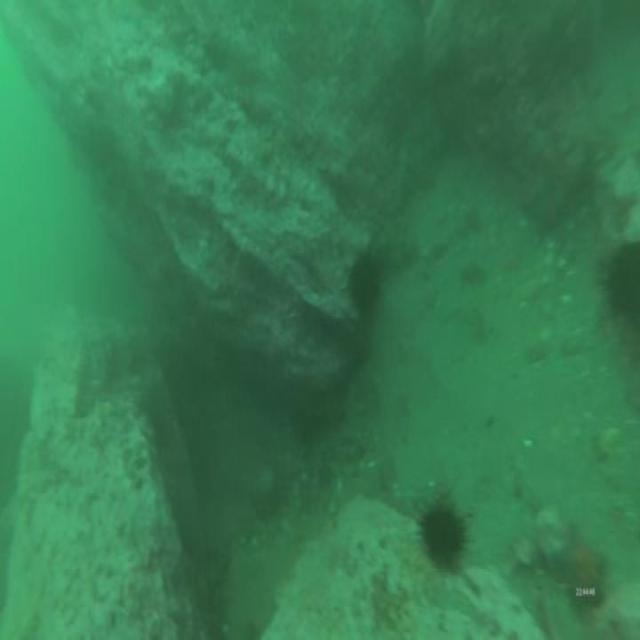echinus: (410, 486, 476, 578), (603, 237, 640, 328), (347, 248, 384, 319)
starfish: (548, 515, 612, 610)
